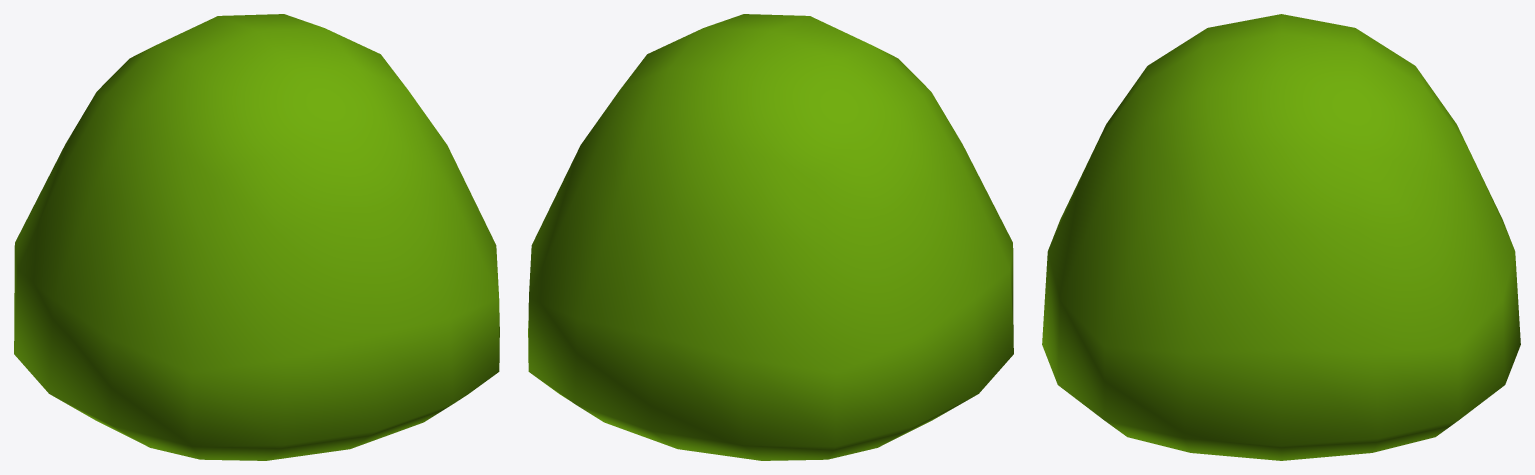
Rendered from Bush_15.fbx.
3 views of the same model, side by side, from view 1: azimuth 30°, elevation 25°; view 2: azimuth 150°, elevation 25°; view 3: azimuth 270°, elevation 25° (orthographic).
Parts seen in each view (by area): view 1: Bush_15; view 2: Bush_15; view 3: Bush_15.
Boxes of the visible parts, x1,y1,x2,y2 form: Bush_15: [14, 14, 499, 460]; Bush_15: [528, 14, 1013, 460]; Bush_15: [1042, 14, 1520, 460].
Size of the model in its own units: 92.14 by 77.24 by 92.14.
